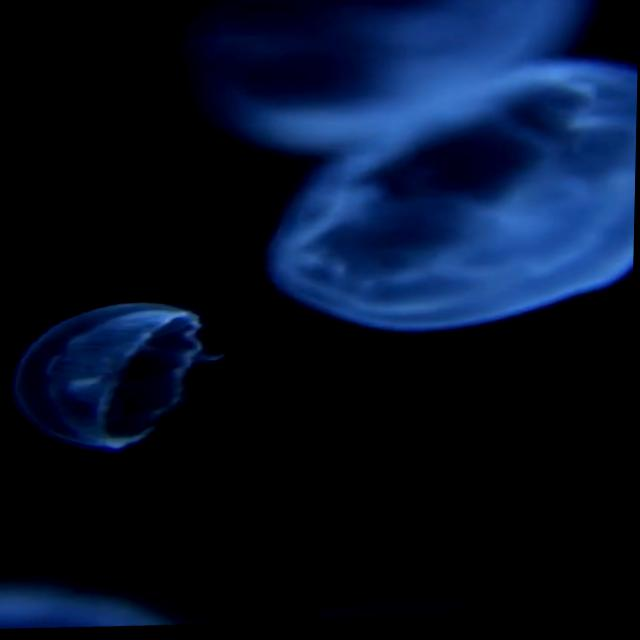Moon-jellyfish: (260, 60, 638, 339), (4, 301, 205, 457)
